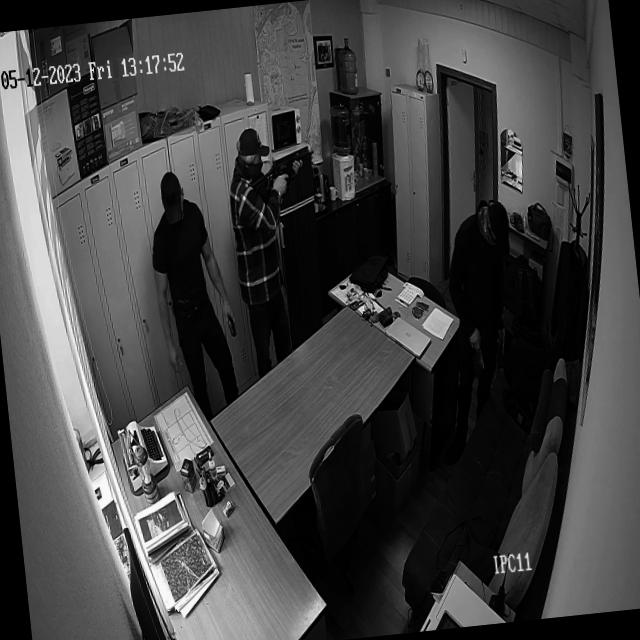gun: (248, 144, 318, 197)
person: (419, 194, 535, 466), (142, 165, 247, 426)
person with a gun: (222, 120, 337, 378)
